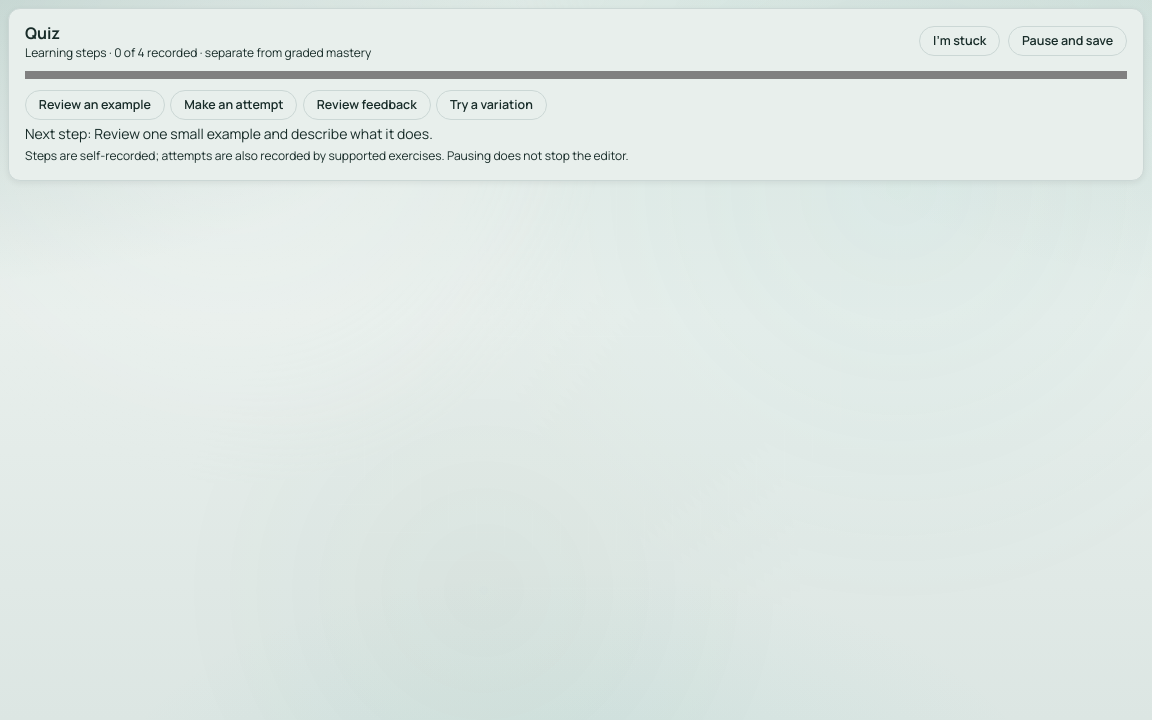
Test: learning support › refuses pause during a quiz request without marking it saved
The image size is (1152, 720).
Click the button "Pause and save".
click(1068, 41)  # box [1008,26,1127,56]
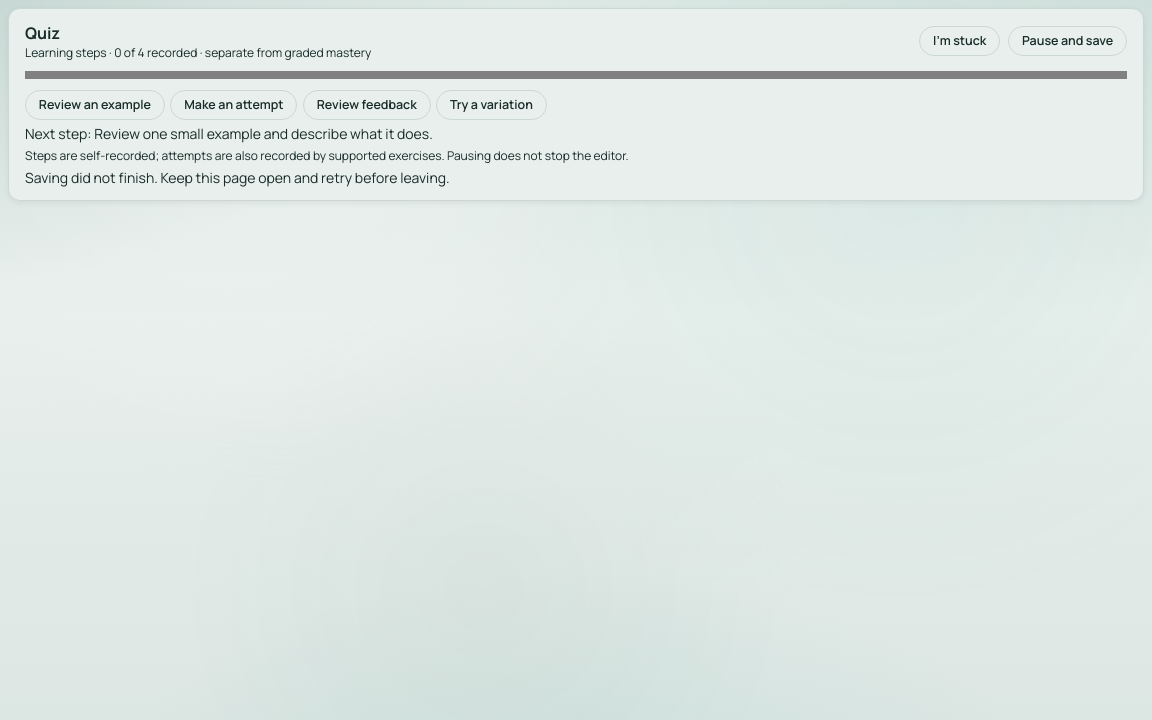
Check: the message "Saving did not finish. Keep this page open and retry before leaving." is shown, box [25,168,450,187]
